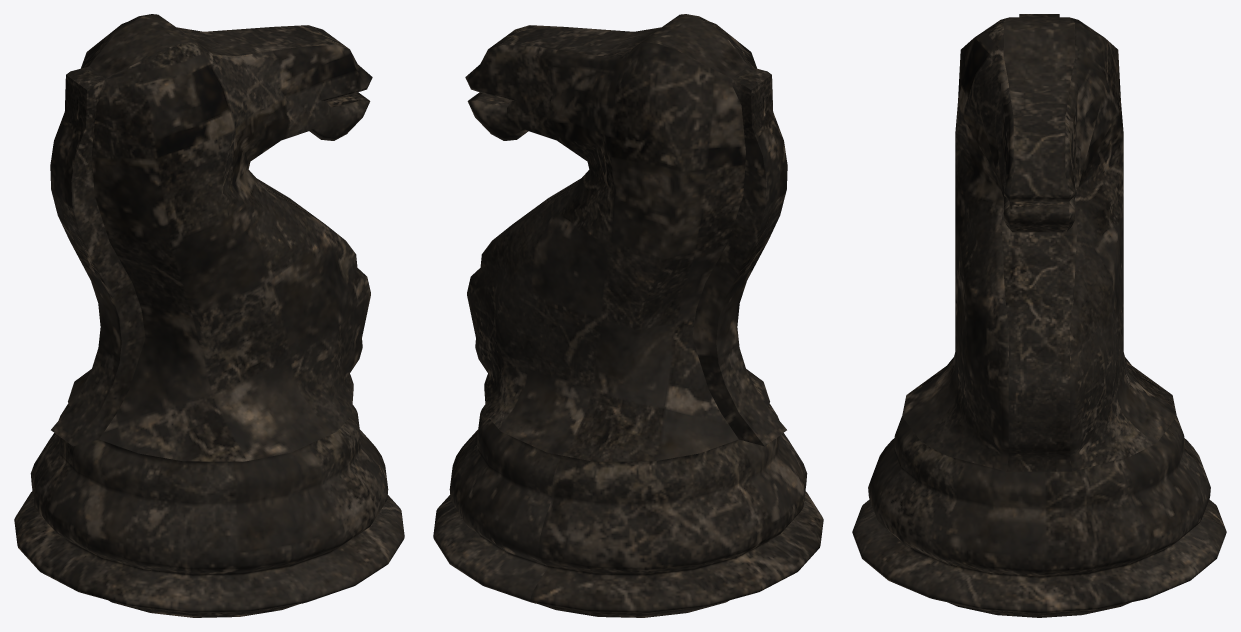
File: mermer_n_b.glb
3 renders of one model, left to right at view 1: azimuth 30°, elevation 25°; view 2: azimuth 150°, elevation 25°; view 3: azimuth 270°, elevation 25°, orthographic. The views are drawn at different scales.
Parts seen in each view (by area): view 1: SM_Knight1; view 2: SM_Knight1; view 3: SM_Knight1.
Part boxes in pixels (x1,y1,x2,y2): SM_Knight1: (14, 14, 404, 617); SM_Knight1: (433, 14, 823, 617); SM_Knight1: (852, 14, 1226, 617).
Size of the model in its own units: 3.91 by 5.91 by 3.91.
1 material, 1 textured.
